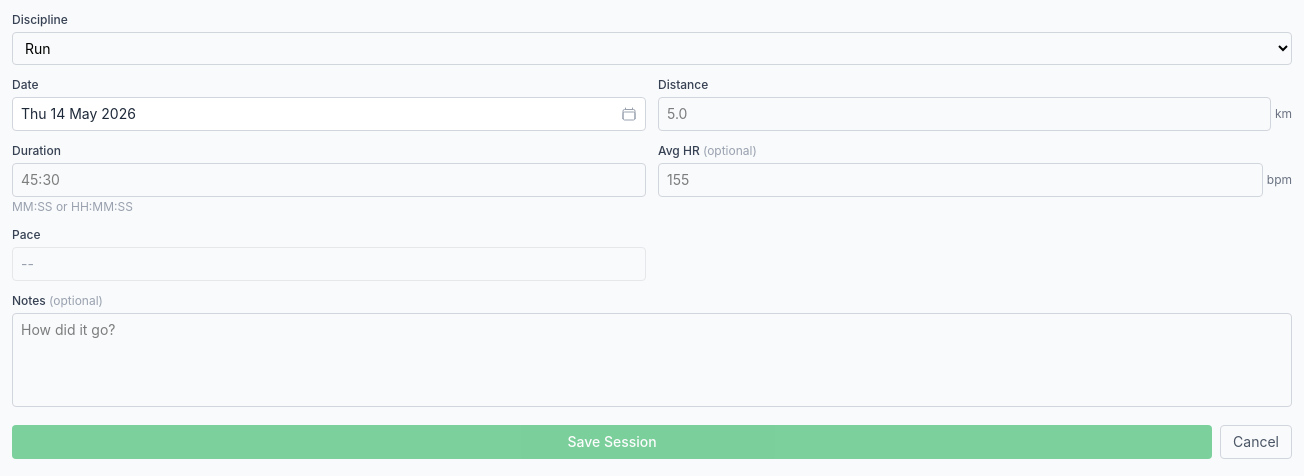
Test: RunEntryForm › hides distance field and shows Session Type when Gym is selected
Select "Gym" in the dropdown labelled "Discipline": (652, 48) [12, 32, 1292, 65]
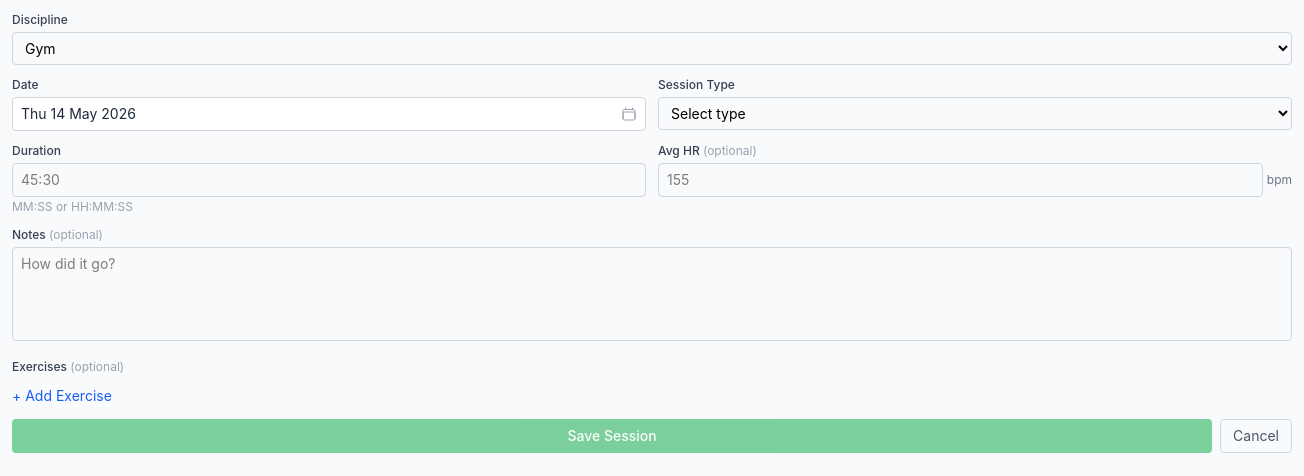
Expected: the field with placeholder "5.0" is not shown
Expected: the text "Session Type" is shown, [658, 77, 735, 92]
